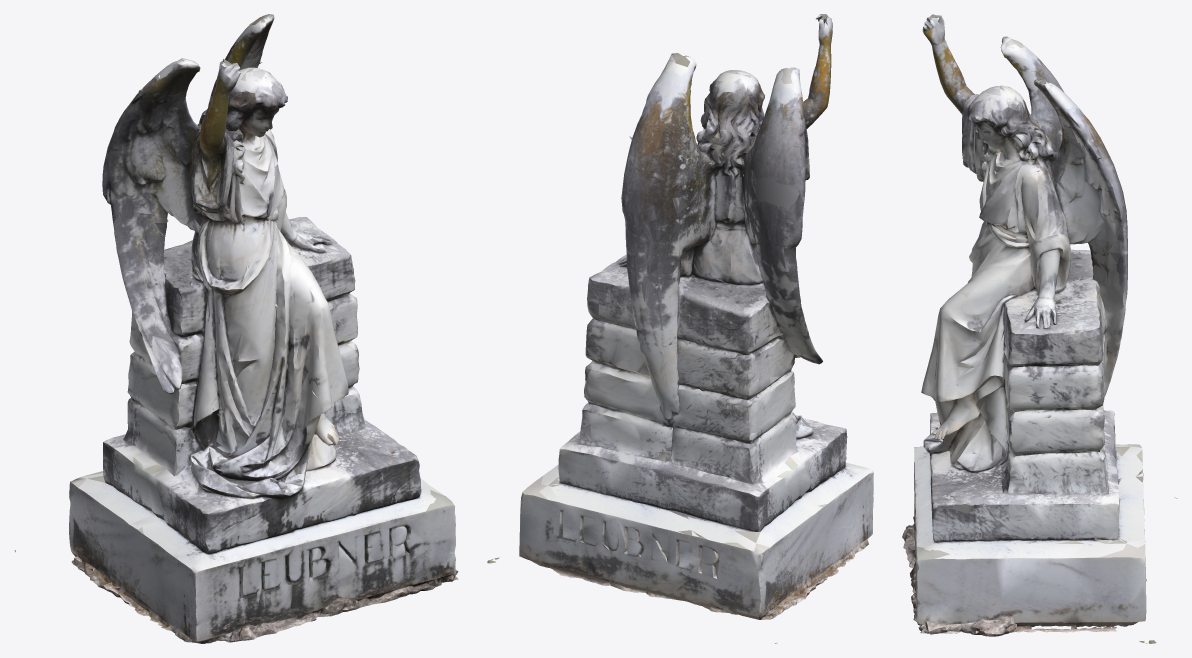
The model's file is Statue_Angel_Leubner.gltf.
3 renders of one model, left to right at view 1: azimuth 30°, elevation 25°; view 2: azimuth 150°, elevation 25°; view 3: azimuth 270°, elevation 25°, orthographic. The views are drawn at different scales.
Parts seen in each view (by area): view 1: Statue_Angel_Leubner_Figure; view 2: Statue_Angel_Leubner_Figure; view 3: Statue_Angel_Leubner_Figure.
Boxes of the visible parts, left/top/right/bottom form: Statue_Angel_Leubner_Figure: left=14, top=14, right=458, bottom=643; Statue_Angel_Leubner_Figure: left=487, top=14, right=873, bottom=643; Statue_Angel_Leubner_Figure: left=902, top=14, right=1177, bottom=643.
Size of what is drawn, in the model's own units: 1.94 by 3.2 by 1.54.
Materials: 1 (1 with a texture image).
